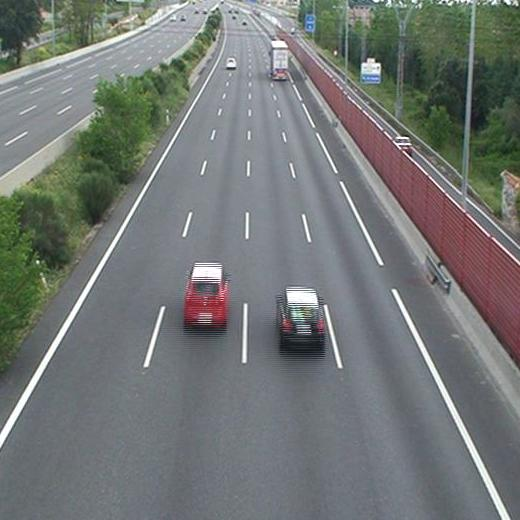car: (276, 289, 325, 346), (184, 263, 228, 324), (225, 58, 236, 68)
truck: (269, 41, 289, 78)
